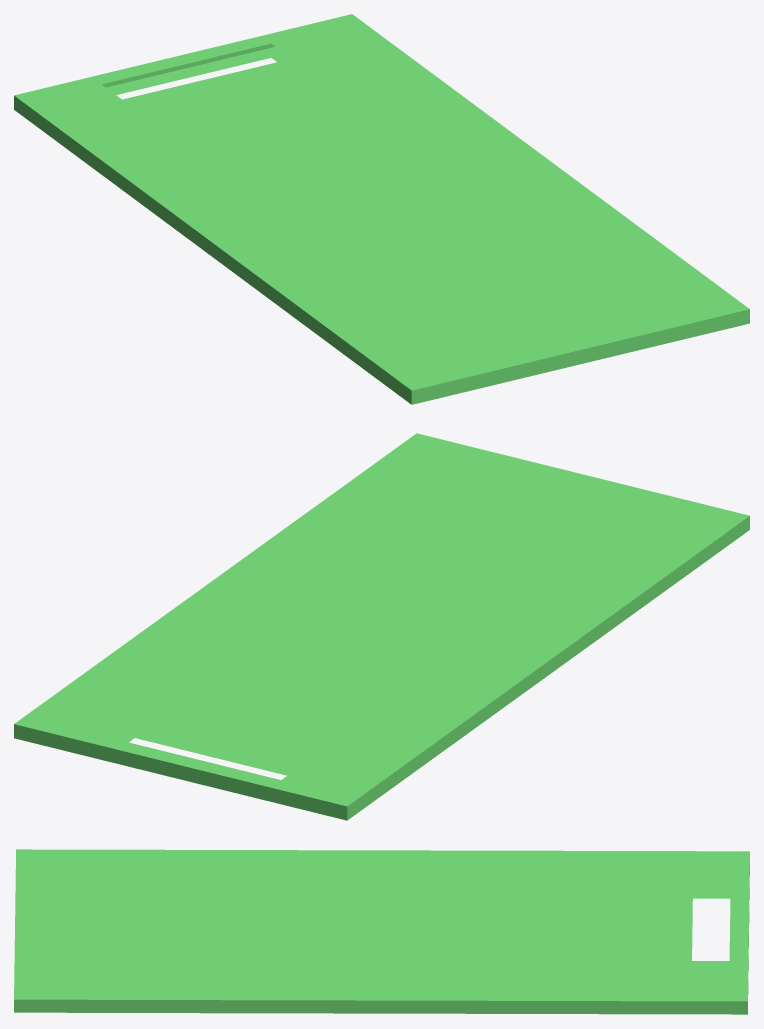
Rendered from tempatpotong.glb.
3 renders of one model, top to bottom at view 1: azimuth 30°, elevation 25°; view 2: azimuth 150°, elevation 25°; view 3: azimuth 270°, elevation 25°, orthographic. The views are drawn at different scales.
Parts seen in each view (by area): view 1: Cube.017; view 2: Cube.017; view 3: Cube.017.
Part boxes in pixels (x1=…): Cube.017: x1=14, y1=14, x2=749, y2=404; Cube.017: x1=14, y1=433, x2=749, y2=820; Cube.017: x1=14, y1=849, x2=749, y2=1014.
Bounding box in the file's own units: 0.4176 × 0.0167 × 0.8544.
